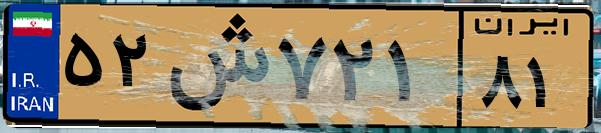1: (385, 28, 445, 110), (525, 38, 570, 115)
2: (330, 28, 385, 110), (110, 28, 158, 98)
5: (57, 26, 110, 100)
7: (270, 28, 330, 110)
8: (475, 38, 525, 113)
ش: (158, 12, 270, 120)
